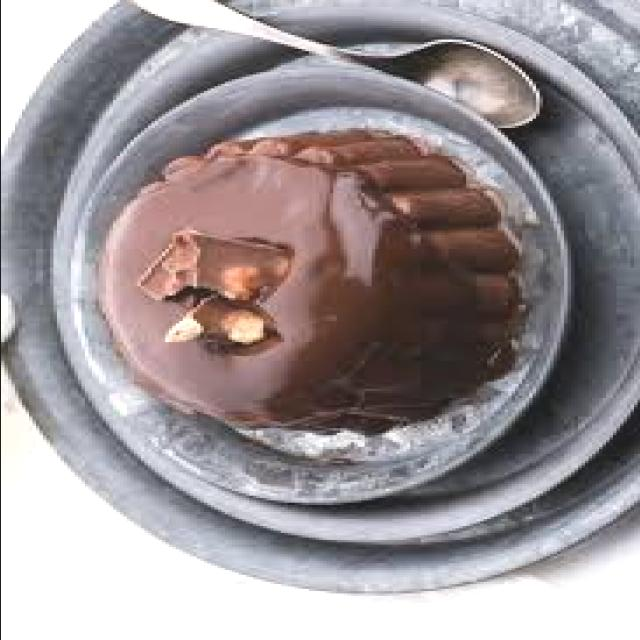puding: (101, 128, 549, 438)
